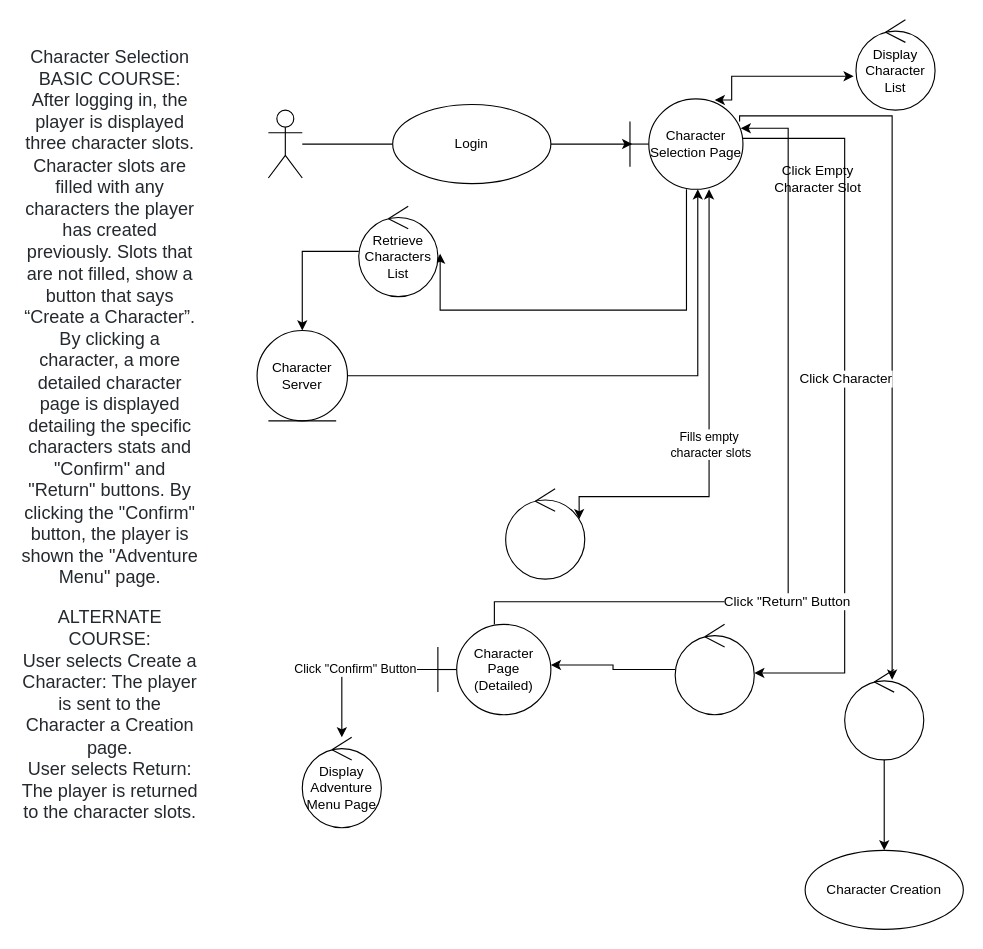
This 983x949 diagram has some shape labels left out. Each missing label, with the centre of its shape:
"Display Character (Detailed)" belongs at point 714,669.
"Display Character Creation Page" belongs at point 884,714.
"Display Empty Character Slots" belongs at point 545,533.
"User" belongs at point 284,143.
